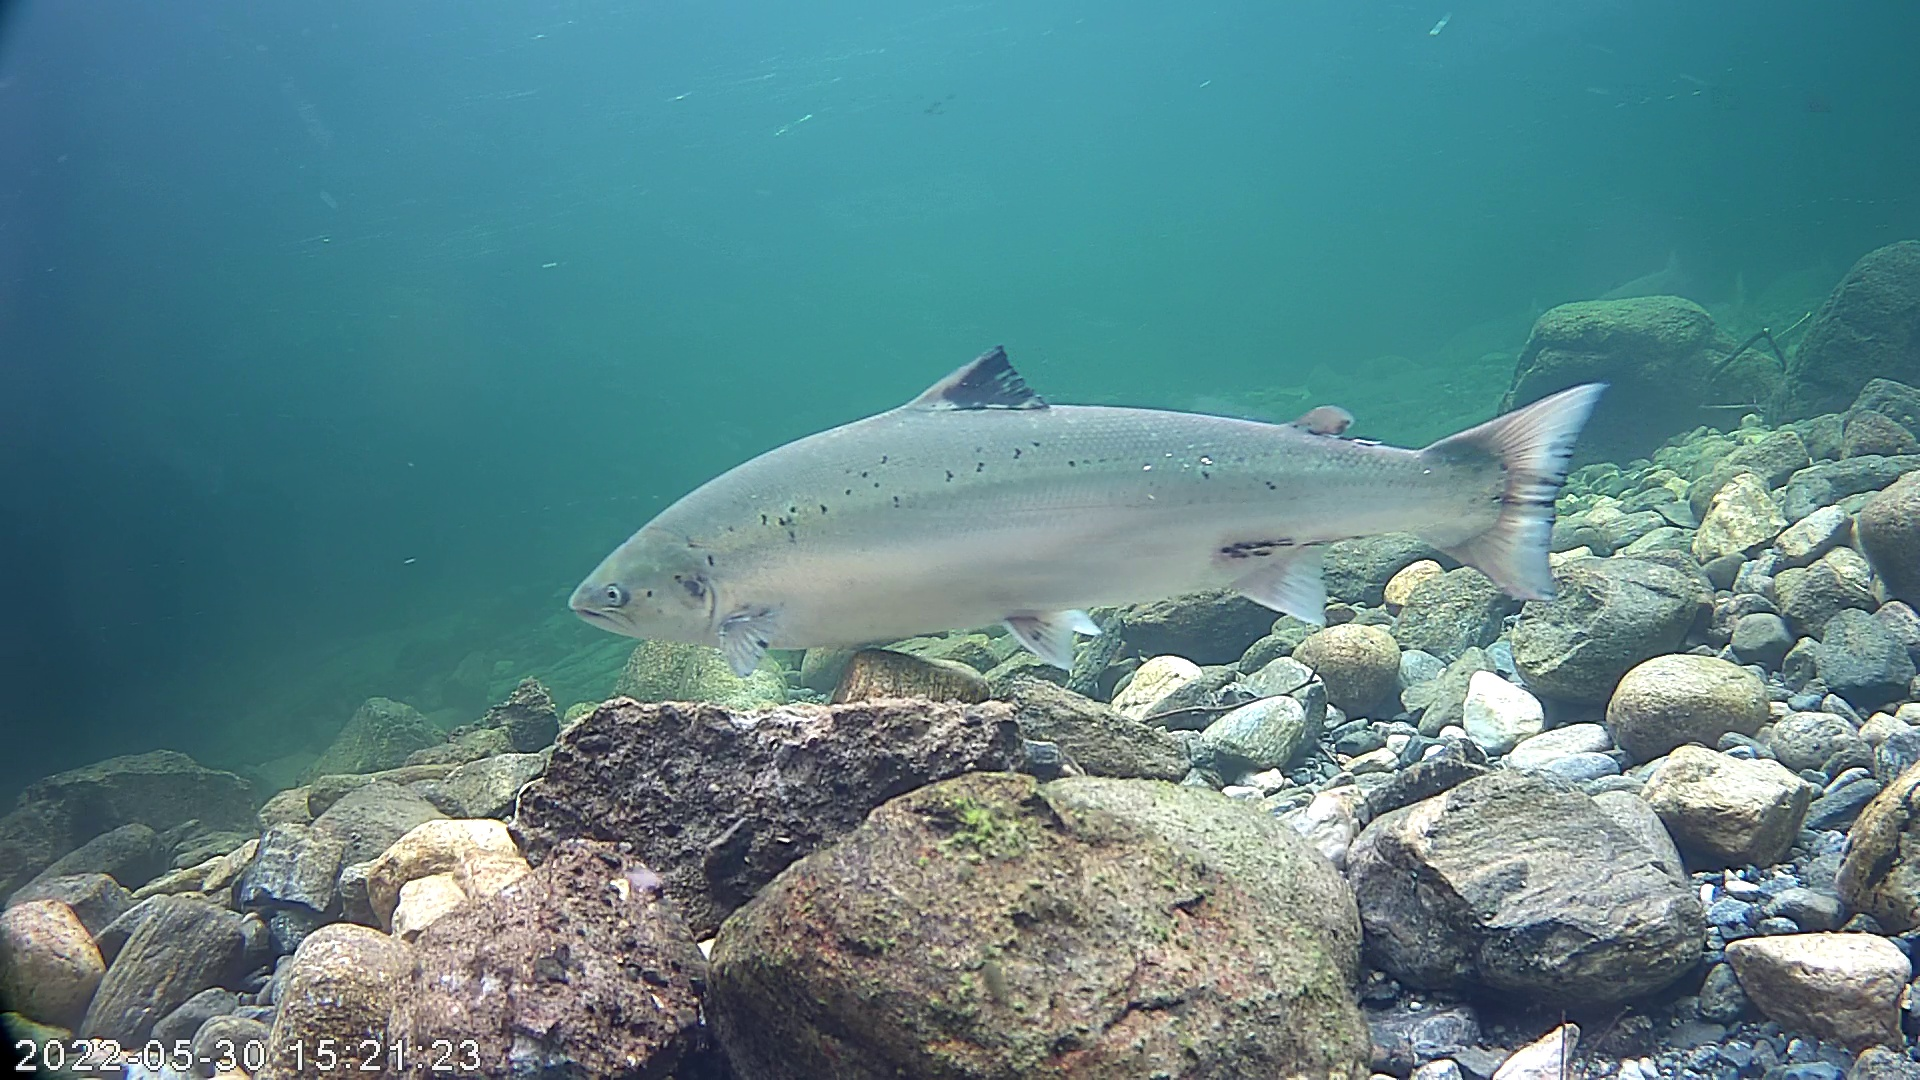salmon: (558, 339, 1615, 680)
